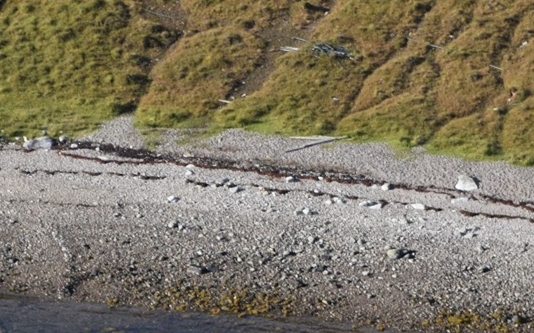straight_bar: (283, 127, 355, 158)
tube: (404, 31, 505, 69), (403, 30, 449, 50), (140, 2, 174, 20)
white_in_green: (295, 25, 364, 77)
